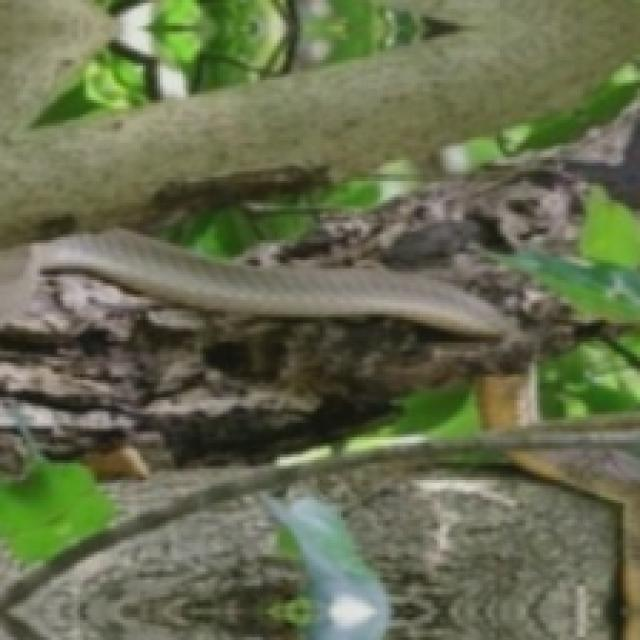king cobra: (37, 229, 511, 334)
